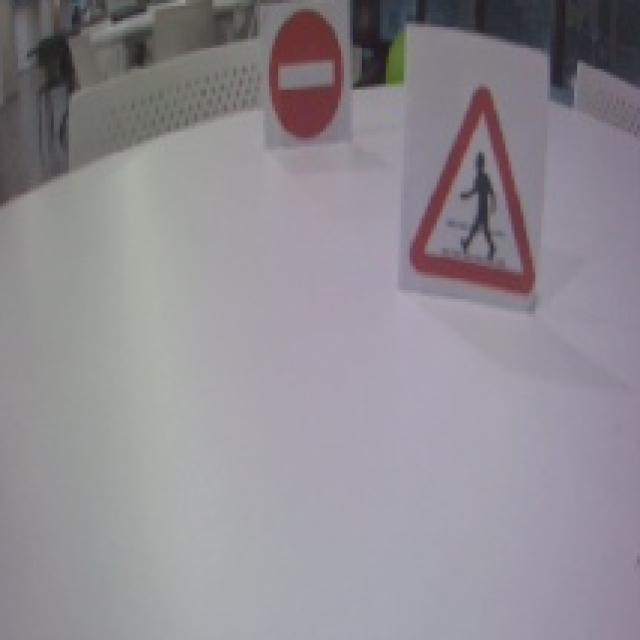DoNotEnterSign: (269, 10, 345, 137)
